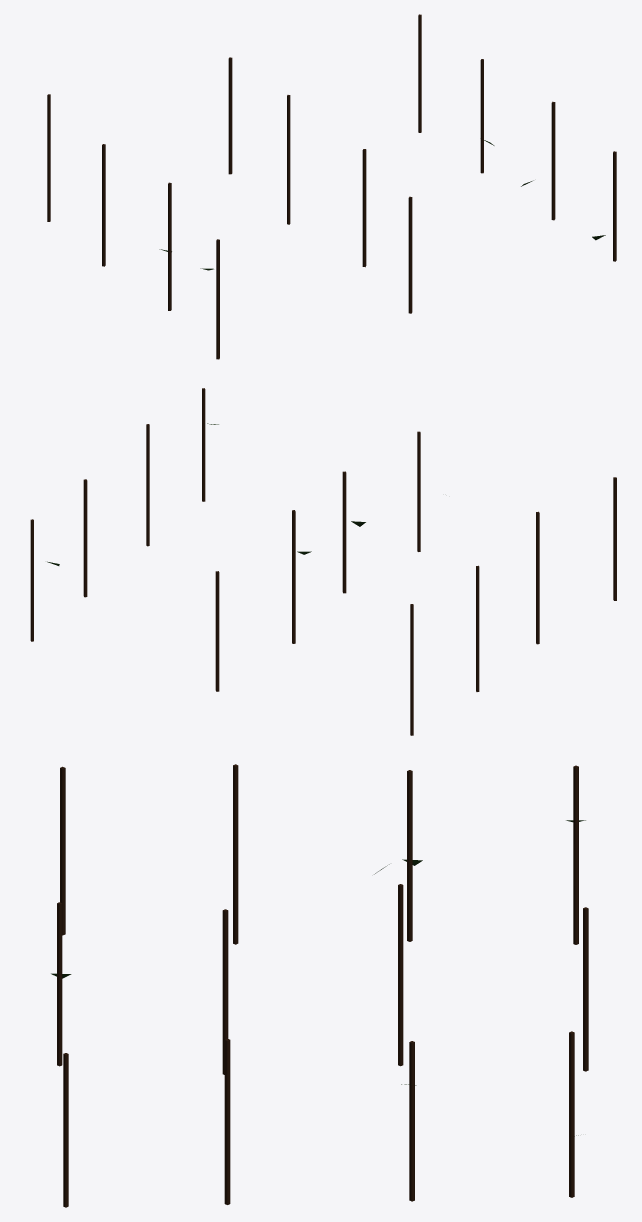
File: fm_tomato_2_lod1.glb
3 views of the same model, one above another, from view 1: azimuth 30°, elevation 25°; view 2: azimuth 150°, elevation 25°; view 3: azimuth 270°, elevation 25° (orthographic). The views are drawn at different scales.
Parts seen in each view (by area): view 1: fm_tomato_2_lod1; view 2: fm_tomato_2_lod1; view 3: fm_tomato_2_lod1.
Boxes of the visible parts, x1=… form: fm_tomato_2_lod1: x1=47, y1=14, x2=616, y2=359; fm_tomato_2_lod1: x1=30, y1=388, x2=616, y2=735; fm_tomato_2_lod1: x1=51, y1=764, x2=588, y2=1207.
Size of the model in its own units: 3.06 by 0.8513 by 2.63.
